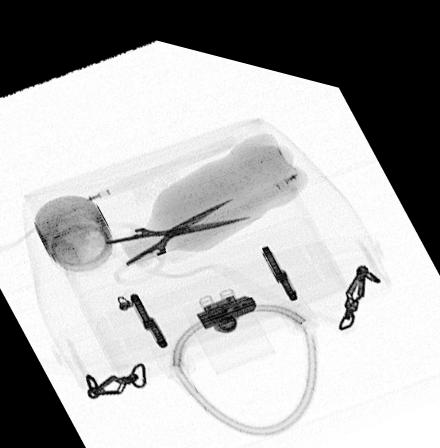Scissors: (48, 184, 257, 284)
